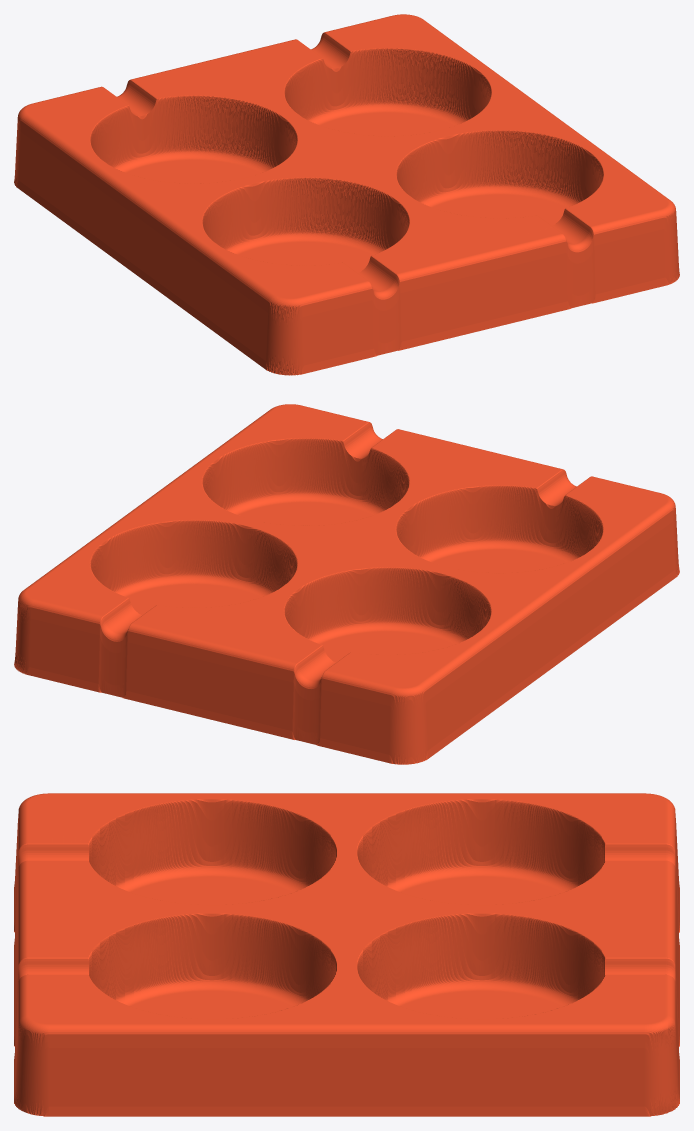
Rendered from mold.glb.
3 renders of one model, top to bottom at view 1: azimuth 30°, elevation 25°; view 2: azimuth 150°, elevation 25°; view 3: azimuth 270°, elevation 25°, orthographic. The views are drawn at different scales.
Visible parts, largest first — view 1: geometry_0; view 2: geometry_0; view 3: geometry_0.
Boxes of the visible parts, box(x1,y1,x2,y2) form: geometry_0: box(14, 14, 679, 375); geometry_0: box(14, 404, 679, 764); geometry_0: box(14, 793, 679, 1116).
Size of the model in its own units: 0.1468 by 0.0245 by 0.171.
